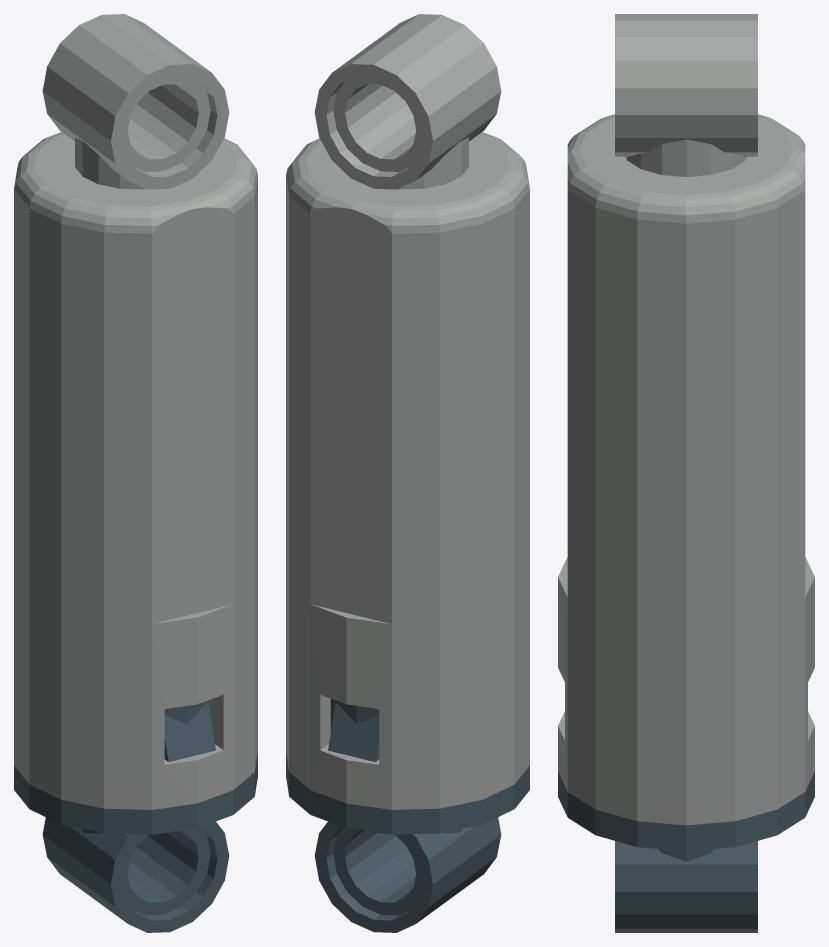
3 views of the same model, side by side, from view 1: azimuth 30°, elevation 25°; view 2: azimuth 150°, elevation 25°; view 3: azimuth 270°, elevation 25° (orthographic). The views are drawn at different scales.
Visible parts, largest first — view 1: world; view 2: world; view 3: world.
Boxes of the visible parts, x1,y1,x2,y2 form: world: (14, 14, 257, 932); world: (286, 14, 529, 932); world: (558, 14, 814, 932).
Bounding box in the file's own units: 0.0144 × 0.056 × 0.0144.
